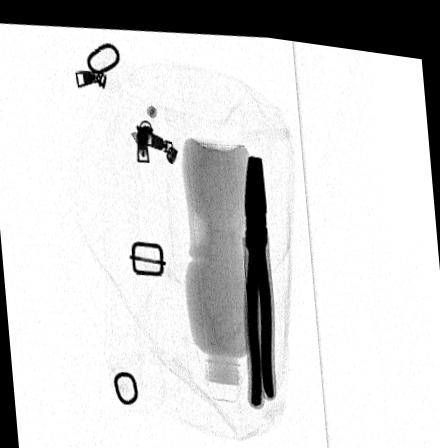Pliers: (244, 147, 276, 400)
